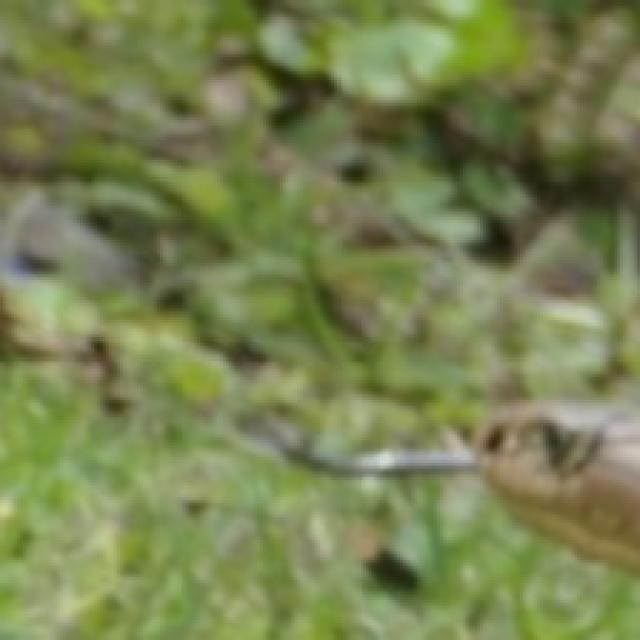king cobra: (263, 400, 637, 574)
